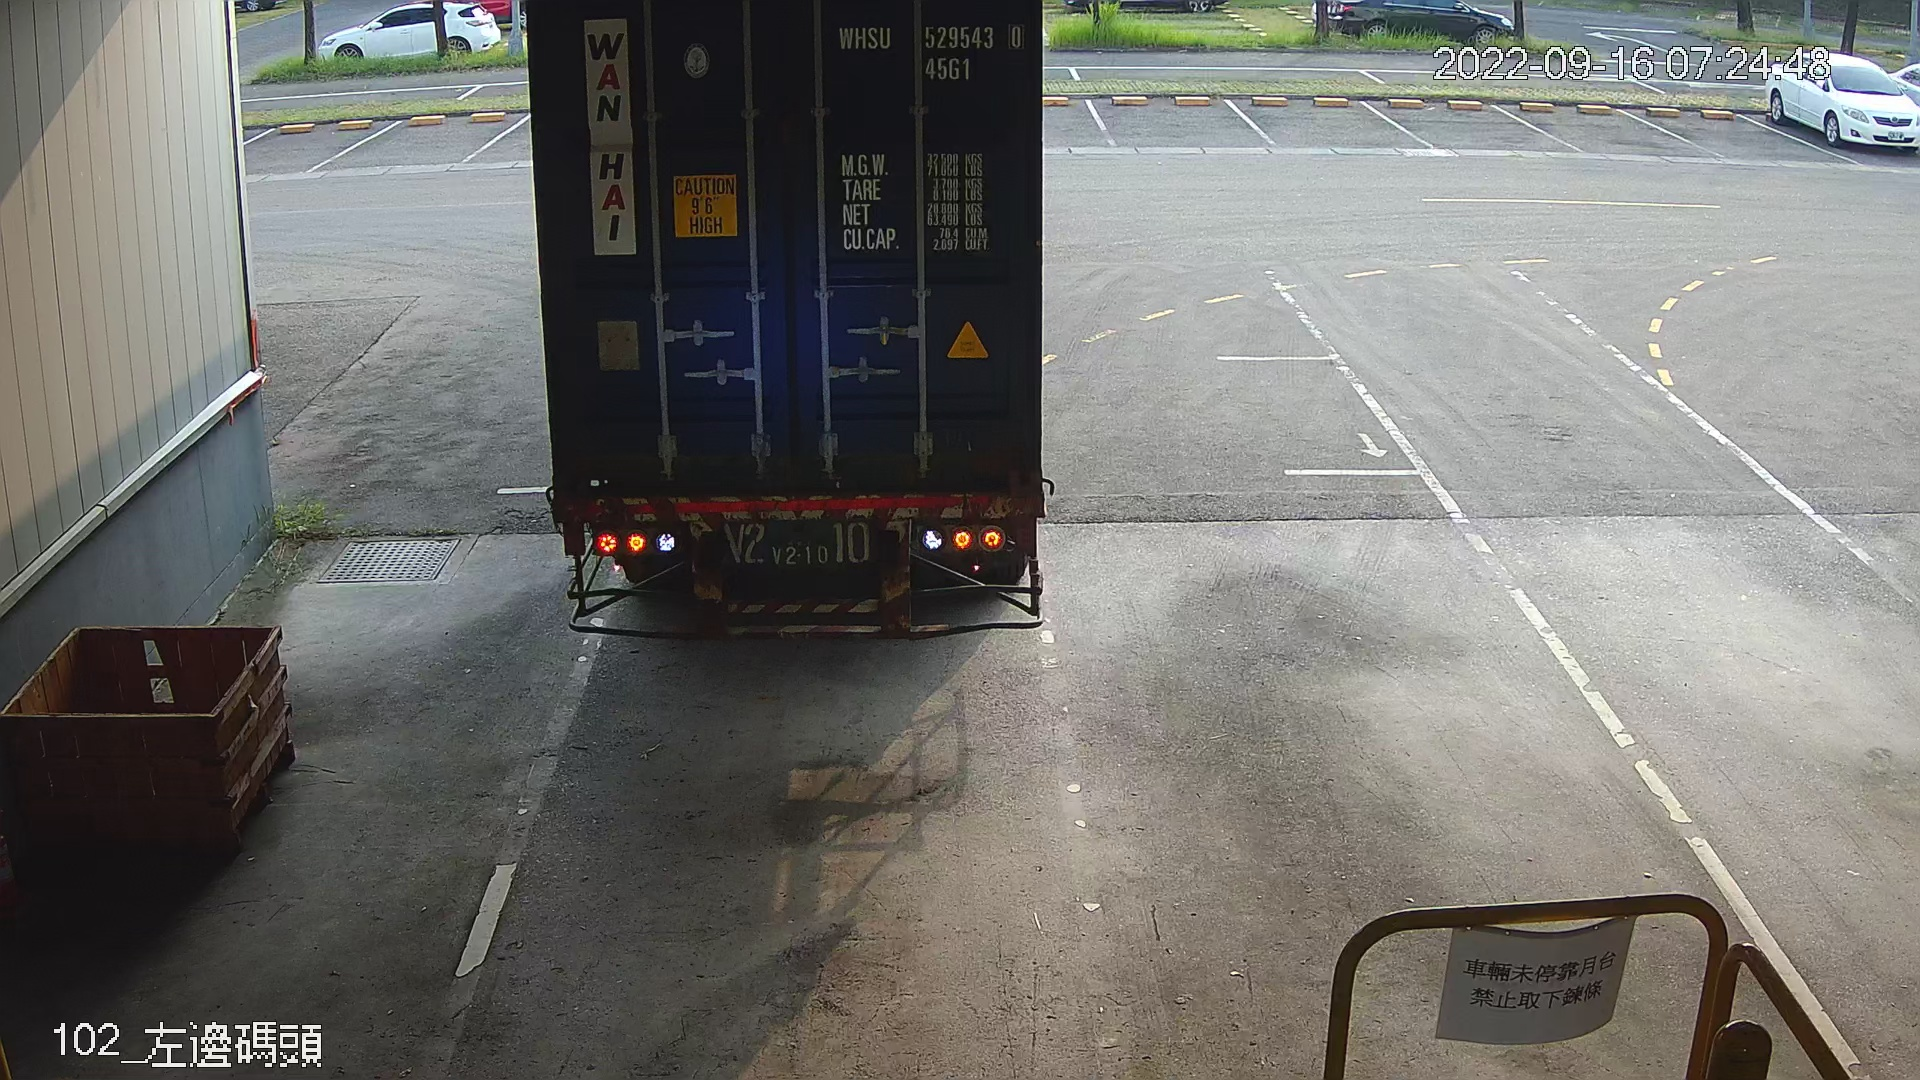container: (828, 15, 1034, 94)
